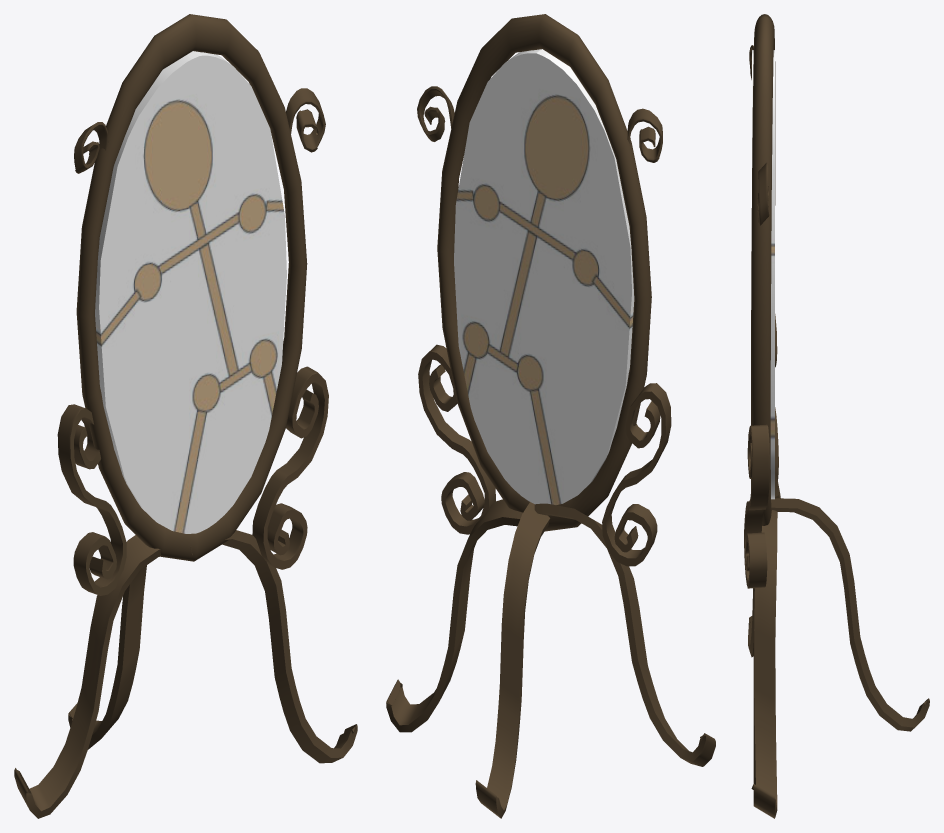
The model's file is mirror stick figure.fbx.
3 views of the same model, side by side, from view 1: azimuth 30°, elevation 25°; view 2: azimuth 150°, elevation 25°; view 3: azimuth 270°, elevation 25° (orthographic). The views are drawn at different scales.
Parts seen in each view (by area): view 1: planarTrimmedSurface1, grove_mirror:polySurface4, grove_mirror:polySurface7, grove_mirror:polySurface3, grove_mirror:polySurface2, grove_mirror:polySurface5, grove_mirror:polySurface8, grove_mirror:polySurface6, grove_mirror:polySurface9; view 2: planarTrimmedSurface1, grove_mirror:polySurface4, grove_mirror:polySurface8, grove_mirror:polySurface3, grove_mirror:polySurface2, grove_mirror:polySurface5, grove_mirror:polySurface7, grove_mirror:polySurface9, grove_mirror:polySurface6; view 3: grove_mirror:polySurface4, grove_mirror:polySurface5, grove_mirror:polySurface8, grove_mirror:polySurface3, planarTrimmedSurface1, grove_mirror:polySurface6, grove_mirror:polySurface7.
Part boxes in pixels (bbox=[...]): planarTrimmedSurface1: bbox=[95, 51, 286, 533]; grove_mirror:polySurface4: bbox=[76, 14, 307, 561]; grove_mirror:polySurface7: bbox=[14, 535, 162, 818]; grove_mirror:polySurface3: bbox=[252, 366, 328, 569]; grove_mirror:polySurface2: bbox=[57, 404, 126, 595]; grove_mirror:polySurface5: bbox=[222, 530, 357, 763]; grove_mirror:polySurface8: bbox=[68, 546, 192, 749]; grove_mirror:polySurface6: bbox=[286, 88, 325, 152]; grove_mirror:polySurface9: bbox=[74, 122, 108, 173]; planarTrimmedSurface1: bbox=[454, 49, 634, 504]; grove_mirror:polySurface4: bbox=[437, 14, 651, 531]; grove_mirror:polySurface8: bbox=[475, 502, 550, 818]; grove_mirror:polySurface3: bbox=[418, 344, 495, 534]; grove_mirror:polySurface2: bbox=[602, 383, 671, 566]; grove_mirror:polySurface5: bbox=[386, 499, 522, 732]; grove_mirror:polySurface7: bbox=[534, 503, 715, 766]; grove_mirror:polySurface9: bbox=[627, 108, 662, 162]; grove_mirror:polySurface6: bbox=[417, 86, 454, 141]; grove_mirror:polySurface4: bbox=[751, 14, 775, 525]; grove_mirror:polySurface5: bbox=[751, 510, 777, 818]; grove_mirror:polySurface8: bbox=[771, 498, 929, 731]; grove_mirror:polySurface3: bbox=[744, 424, 769, 588]; planarTrimmedSurface1: bbox=[752, 50, 774, 499]; grove_mirror:polySurface6: bbox=[757, 162, 769, 225]; grove_mirror:polySurface7: bbox=[748, 473, 780, 657].
Bounding box in the file's own units: 5.61 × 12.63 × 2.9.
